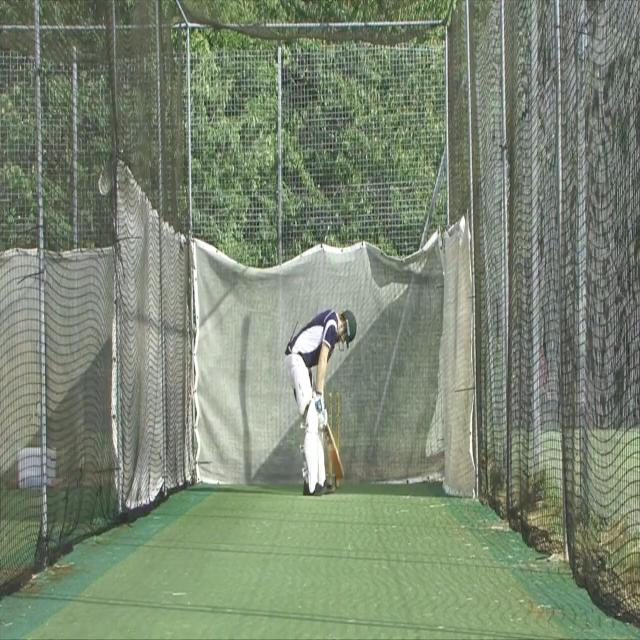batsman: (283, 306, 358, 498)
